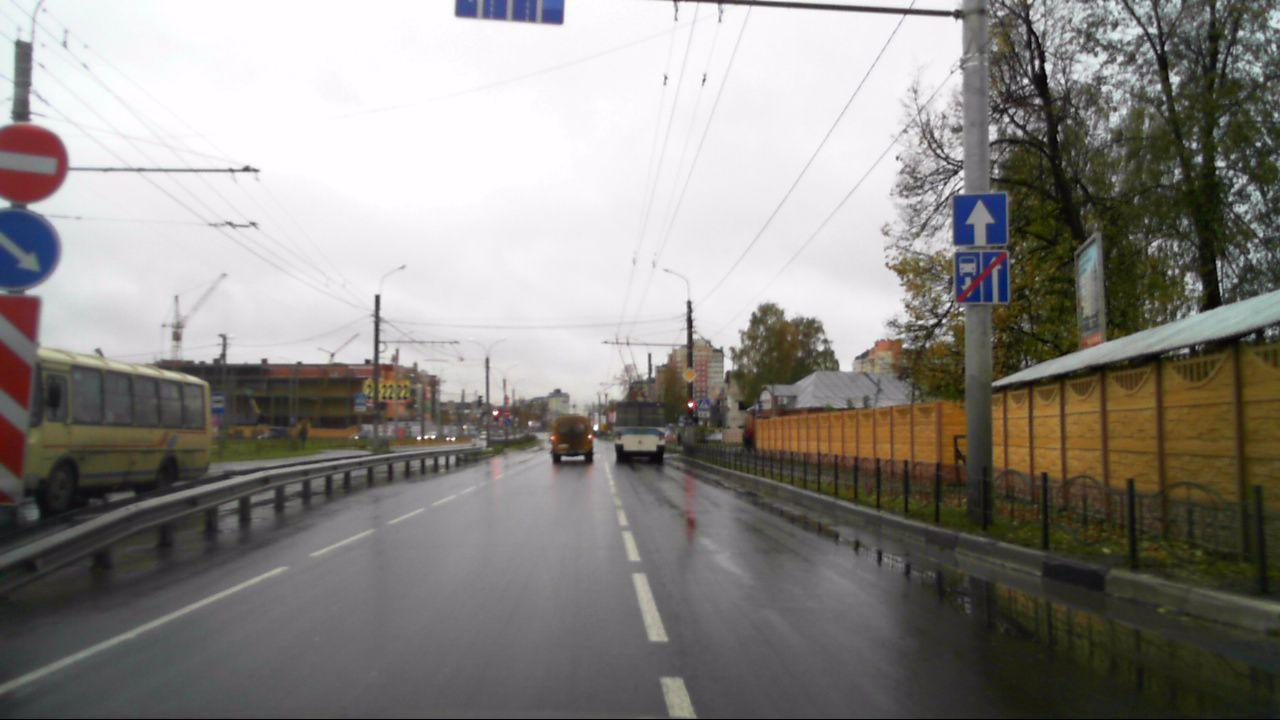2_1: (683, 366, 698, 384)
3_1: (0, 126, 73, 209)
4_2_1: (0, 206, 67, 293)
5_12_1: (952, 251, 1008, 303)
5_15_1: (451, 0, 569, 21)
5_19_1: (698, 398, 712, 411)
5_19_2: (356, 392, 367, 407)
5_5: (947, 191, 1007, 246)
8_22_1: (0, 294, 49, 507)
